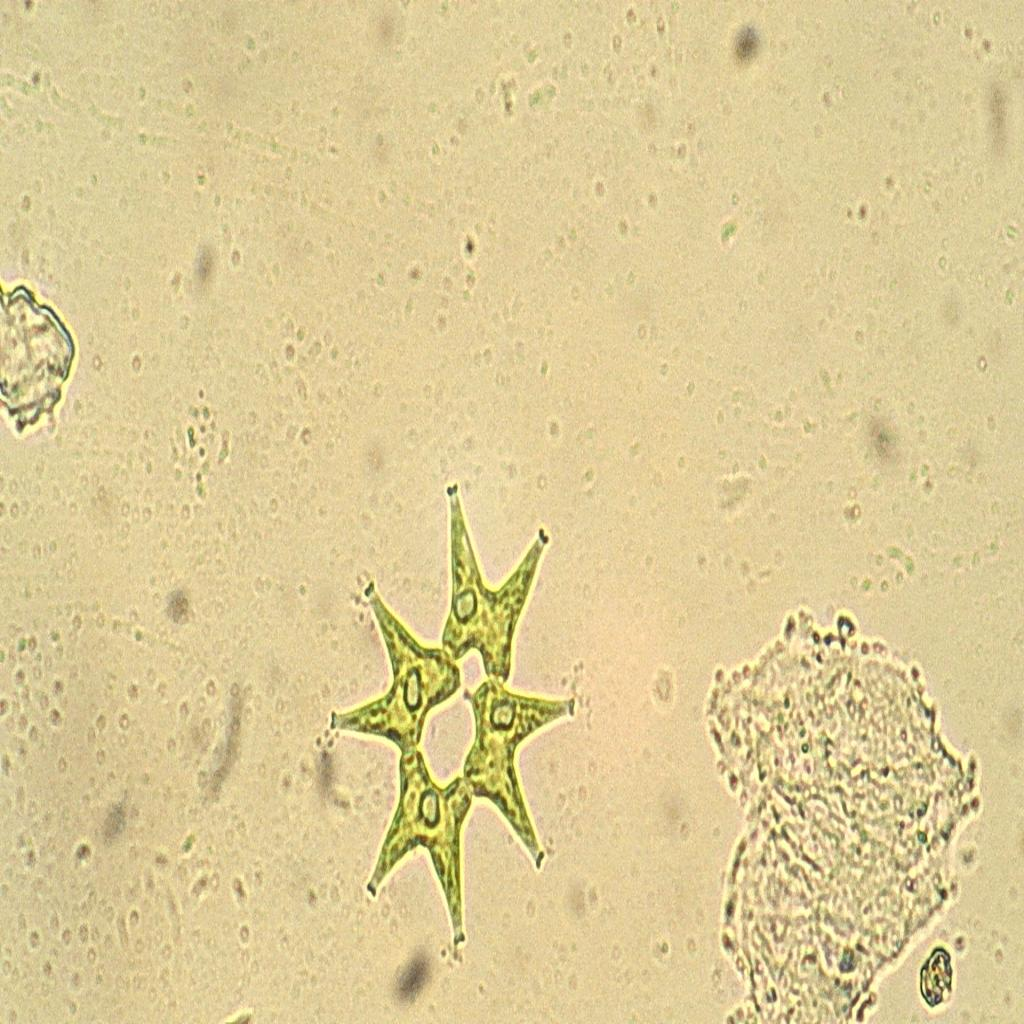Pediastrum_75FO: (325, 452, 586, 969)
